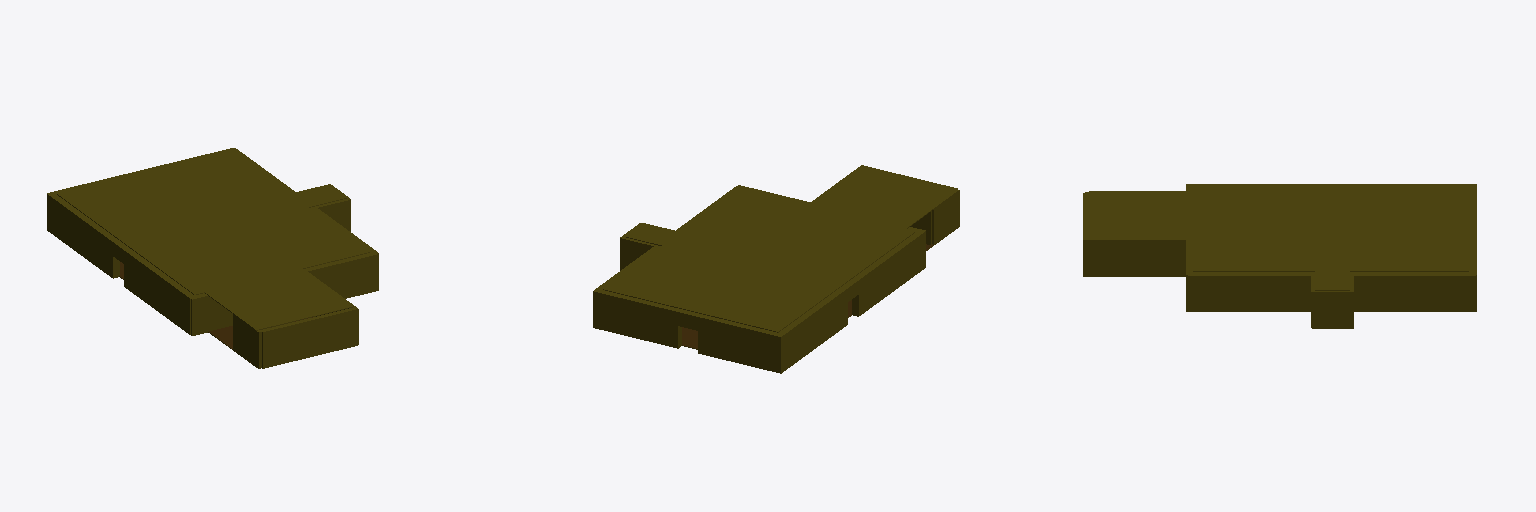
File: estructura.obj
3 renders of one model, left to right at view 1: azimuth 30°, elevation 25°; view 2: azimuth 150°, elevation 25°; view 3: azimuth 270°, elevation 25°, orthographic.
Parts seen in each view (by area): view 1: Estructura_Cube.004; view 2: Estructura_Cube.004; view 3: Estructura_Cube.004.
Boxes of the visible parts, <box> form: Estructura_Cube.004: <box>47,148,378,368</box>; Estructura_Cube.004: <box>593,165,959,373</box>; Estructura_Cube.004: <box>1083,184,1476,328</box>.
Size of the model in its own units: 40.96 by 6.58 by 62.58.